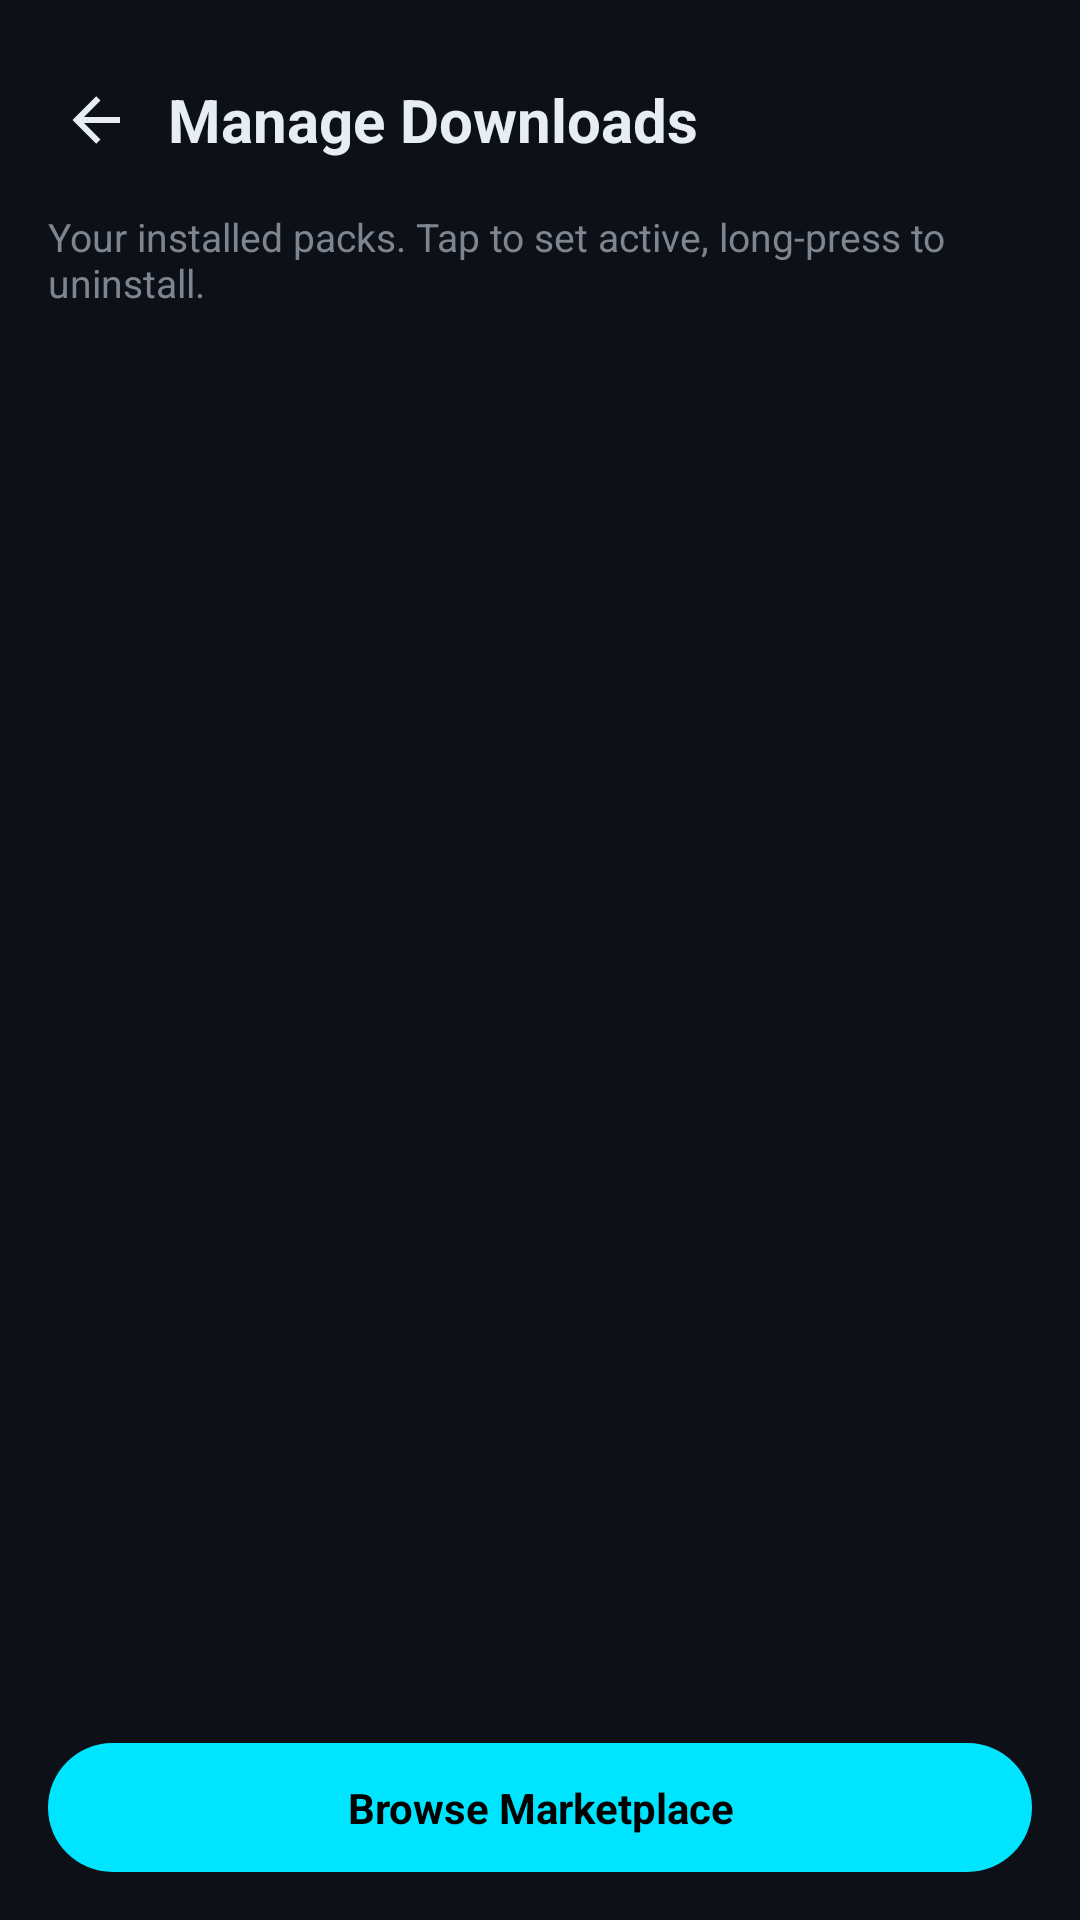

Named icons in this screenshot (1080×1920) and their bounding boxes, (x1, y1, x2, y2):
arrow back: (72, 96, 120, 144)
